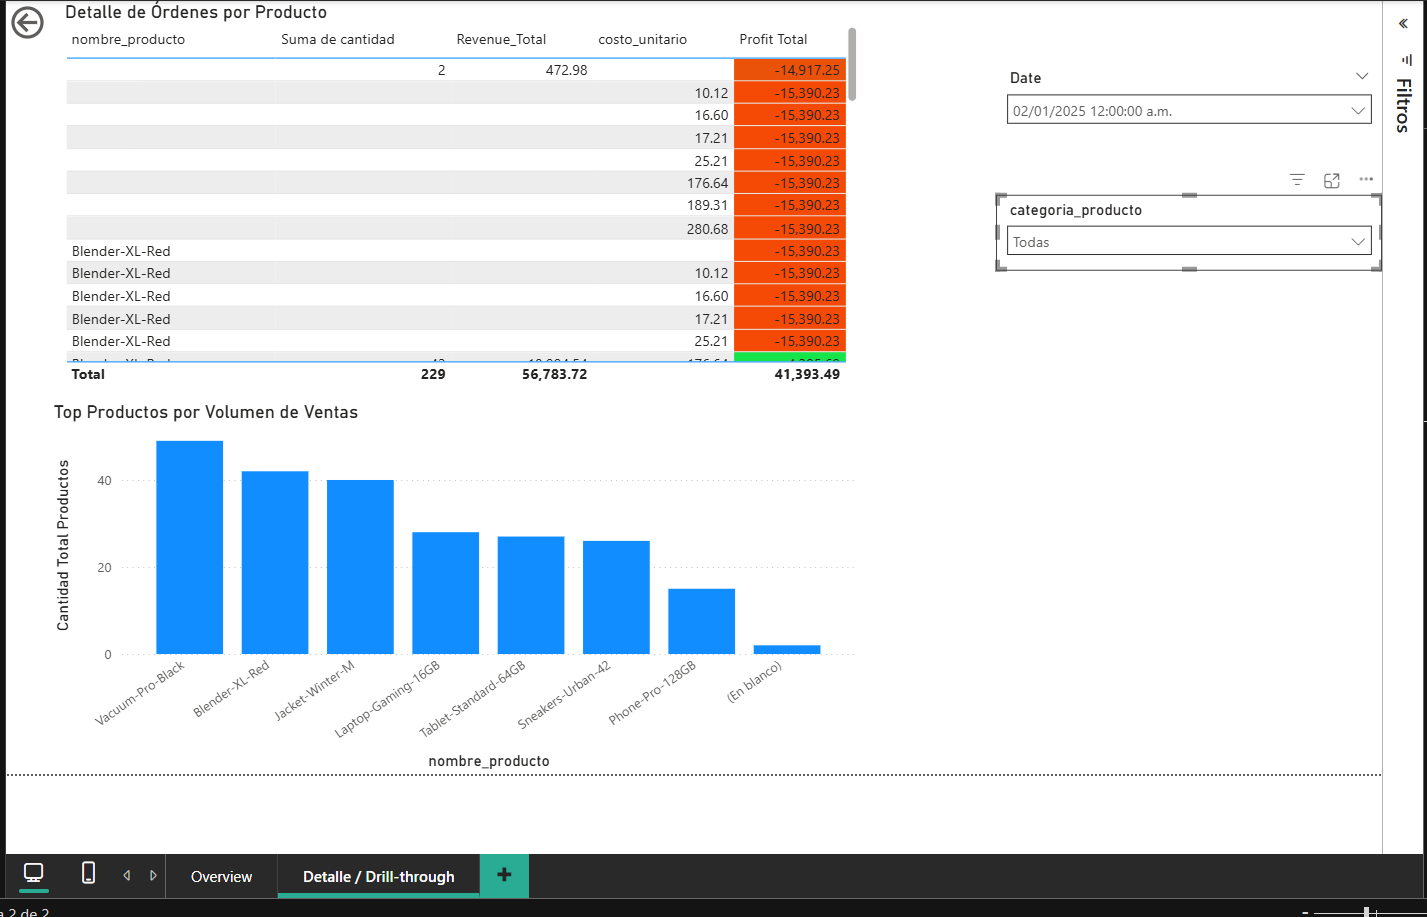

The dashboard page shown, as its layout file describes it:
{"tool":"powerbi","page":{"name":"Detalle / Drill-through","canvas":[1280,720],"ordinal":1},"visuals":[{"type":"tableEx","title":"Detalle de Órdenes por Producto","fields":{"Values":["orders_clean.nombre_producto","Sum(orders_clean.cantidad)","orders_clean.Revenue_Total","catalog_clean.costo_unitario","orders_clean.Profit Total"]},"box":[49.8,0,746.5,360.8],"z":0},{"type":"clusteredColumnChart","title":"Top Productos por Volumen de Ventas","fields":{"Category":["catalog_clean.nombre_producto"],"Y":["orders_clean.Cantidad Total Productos"]},"box":[39.8,372,756.5,348.4],"z":1000},{"type":"actionButton","box":[0,0,100,40],"z":2000},{"type":"slicer","fields":{"Values":["dim_Fecha.Date"]},"box":[920.7,58.5,359.6,89.6],"z":3000},{"type":"slicer","fields":{"Values":["catalog_clean.categoria_producto"]},"box":[920.7,180.4,359.6,70.9],"z":4000}]}

Visuals, with their boxes on the page's 1280x720 design canvas (x1, y1, x2, y2). These are canvas units, not pixel positions in the 1427x917 screenshot, which may show the page scaled, cropped or inside an application window:
"Detalle de Órdenes por Producto" tableEx: [50,0,796,361]
"Top Productos por Volumen de Ventas" clusteredColumnChart: [40,372,796,720]
actionButton: [0,0,100,40]
slicer - dim_Fecha.Date: [921,58,1280,148]
slicer - catalog_clean.categoria_producto: [921,180,1280,251]
